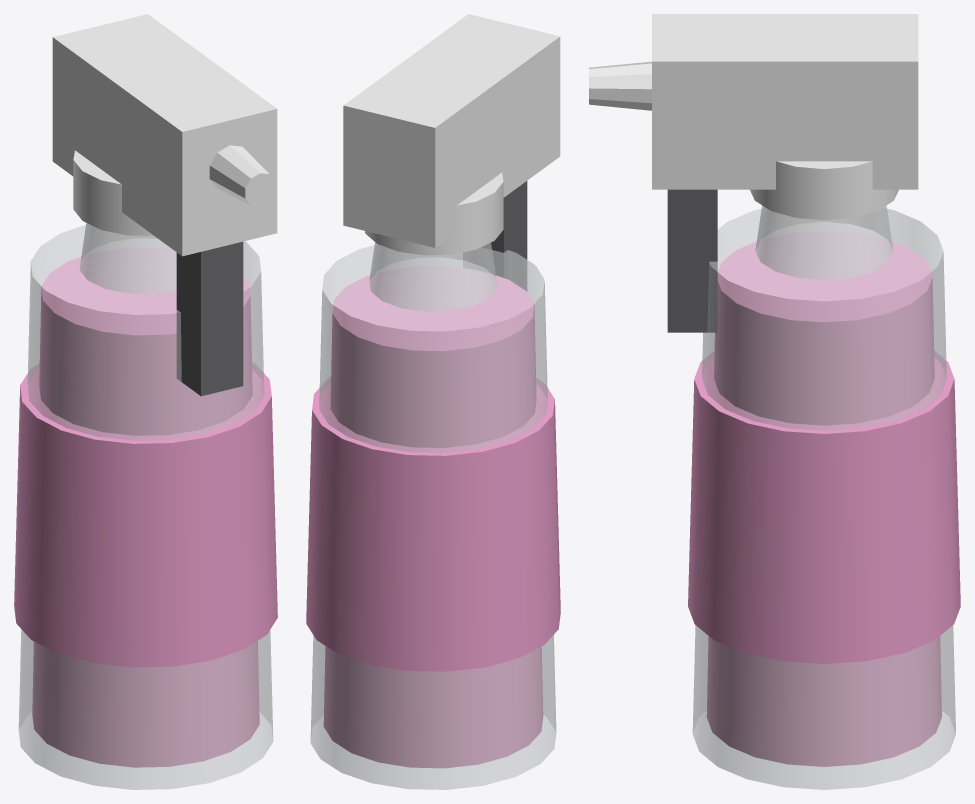
Rendered from Spray Bottle.fbx.
The picture shows the model from 3 angles, left to right: view 1: azimuth 30°, elevation 25°; view 2: azimuth 150°, elevation 25°; view 3: azimuth 270°, elevation 25°; orthographic projection. The views are drawn at different scales.
Parts seen in each view (by area): view 1: Bottle, Label, Liquid, Head, Trigger; view 2: Bottle, Label, Liquid, Head, Trigger; view 3: Bottle, Label, Liquid, Head, Trigger.
Boxes of the visible parts, x1,y1,x2,y2 form: Bottle: (18,223,273,789); Label: (14,362,277,667); Liquid: (32,247,259,767); Head: (52,14,277,256); Trigger: (176,241,243,396); Bottle: (310,242,556,789); Label: (306,377,560,671); Liquid: (323,266,543,768); Head: (343,14,560,255); Trigger: (463,181,527,290); Bottle: (692,205,955,789); Label: (688,351,960,663); Liquid: (706,231,941,766); Head: (589,14,918,220); Trigger: (667,189,717,332).
Size of the model in its own units: 0.087 by 0.245 by 0.1185.
